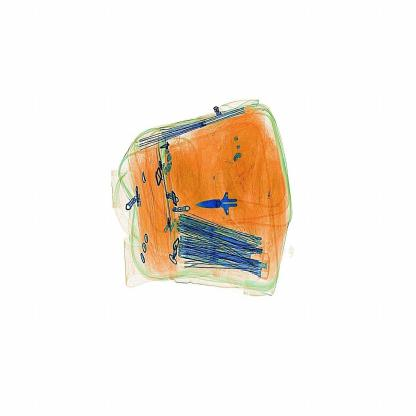gun: (189, 176, 261, 228)
